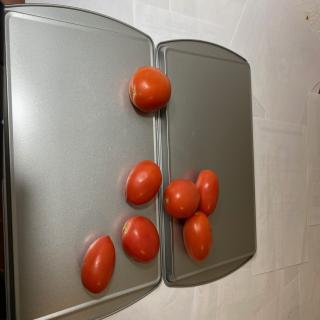Tomato: (80, 235, 116, 294), (129, 66, 171, 112), (121, 215, 160, 264), (125, 160, 162, 205), (182, 211, 212, 262), (163, 178, 200, 218), (195, 170, 219, 217)
